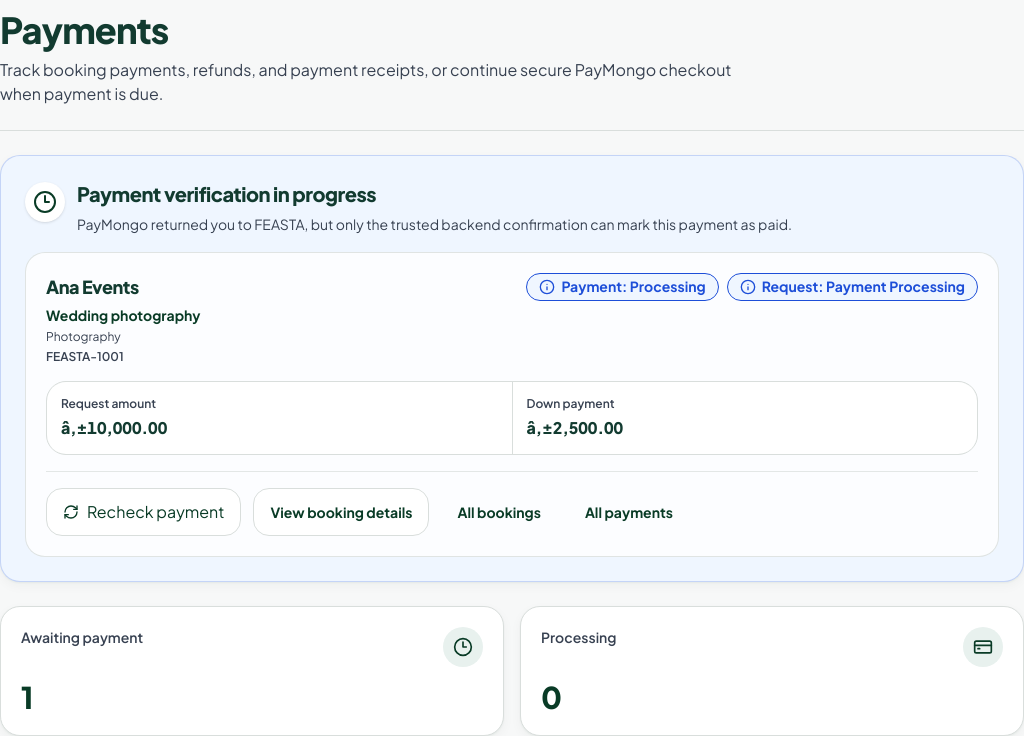
customer payments › reconciles a terminal expired recheck
Click the button "Recheck payment" at x=144, y=512, box [46,488,242,536]
(page scrolled)
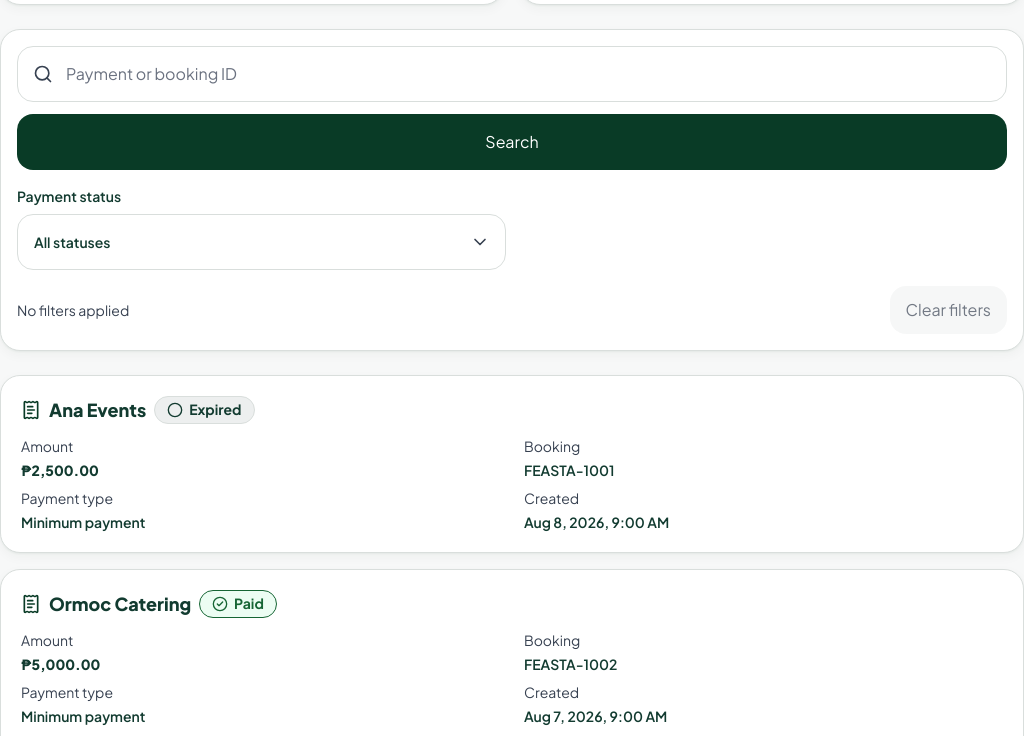
Expected: the element "Ana Events" is shown, [0,375,1023,553]
Expected: the text "Expired" is shown, [189,401,242,419]
